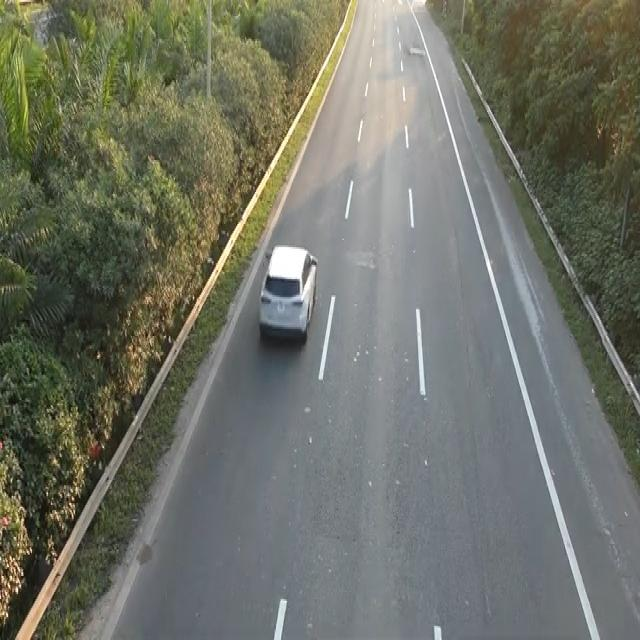car: (256, 240, 319, 345)
